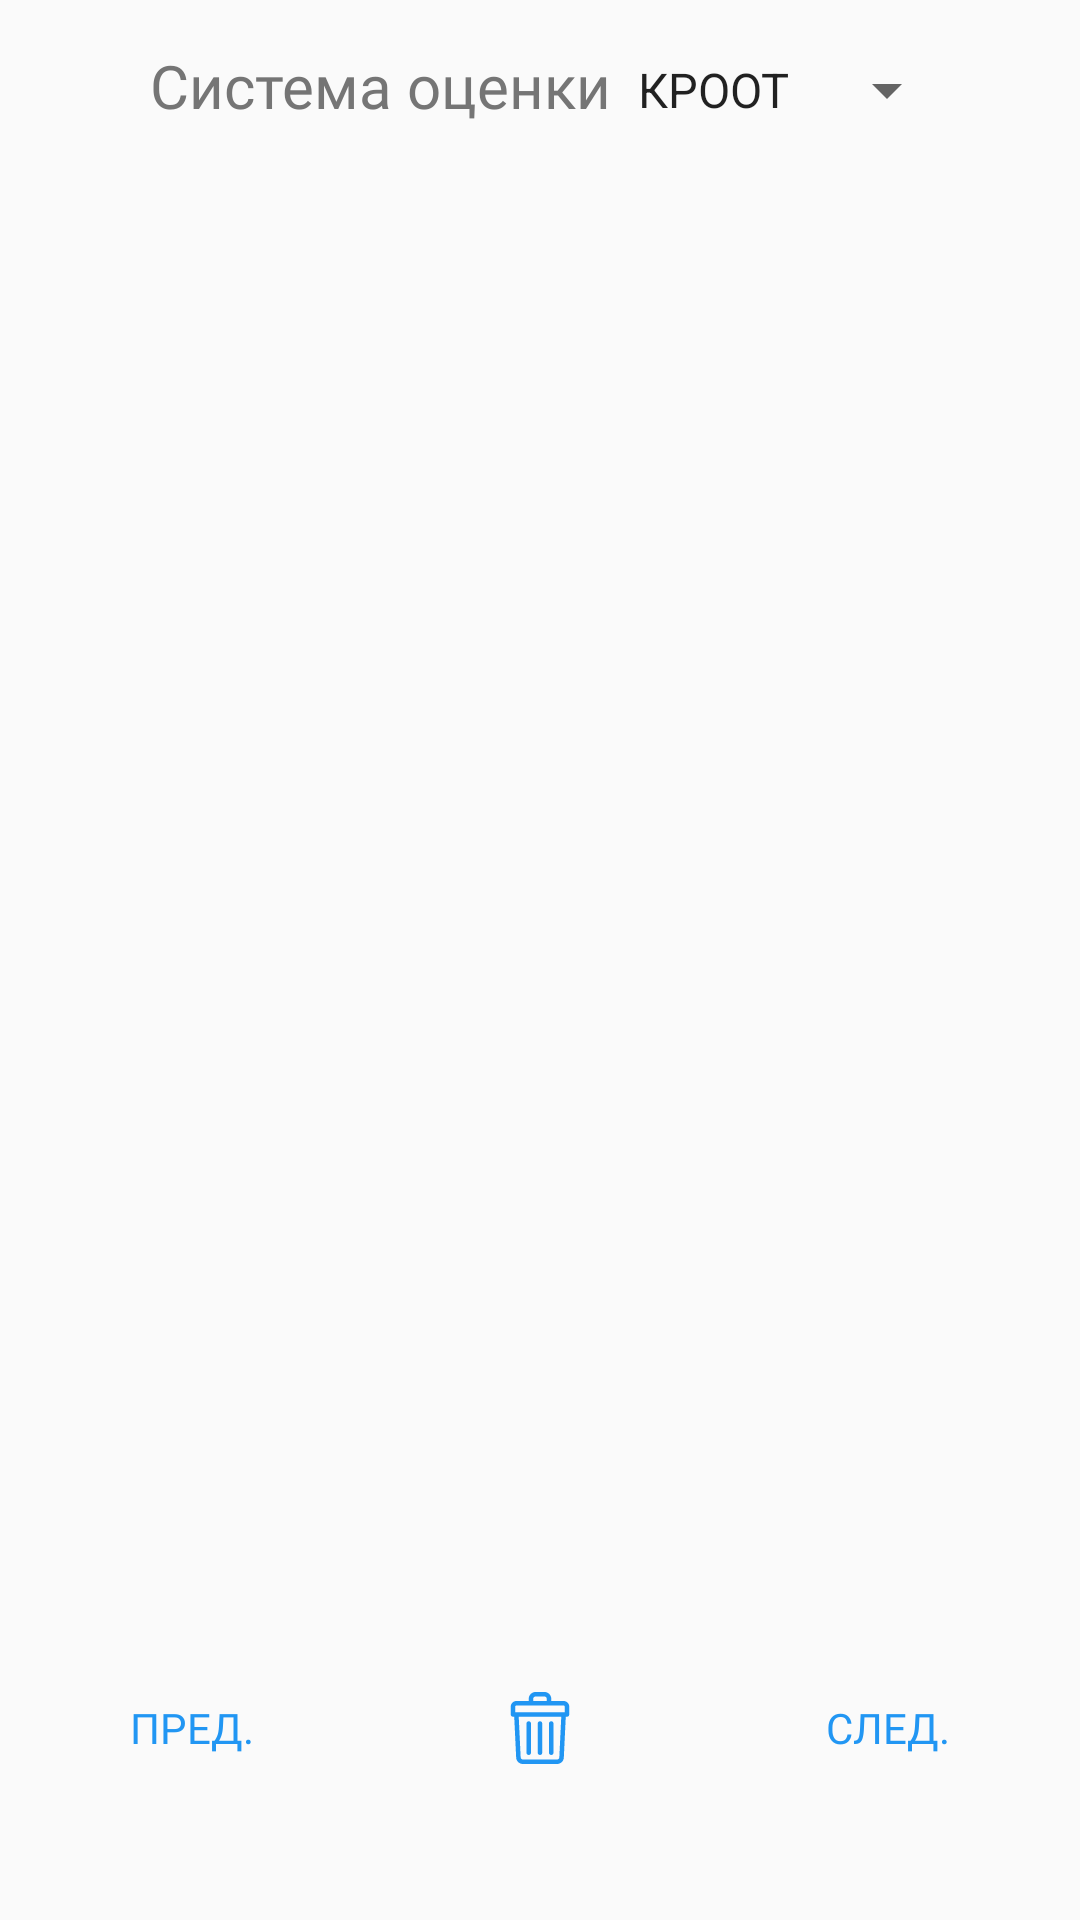

Where to tap for icons on this 1080 x 1920 app screen, as (x=x, y=y):
trash: (x=540, y=1728)
